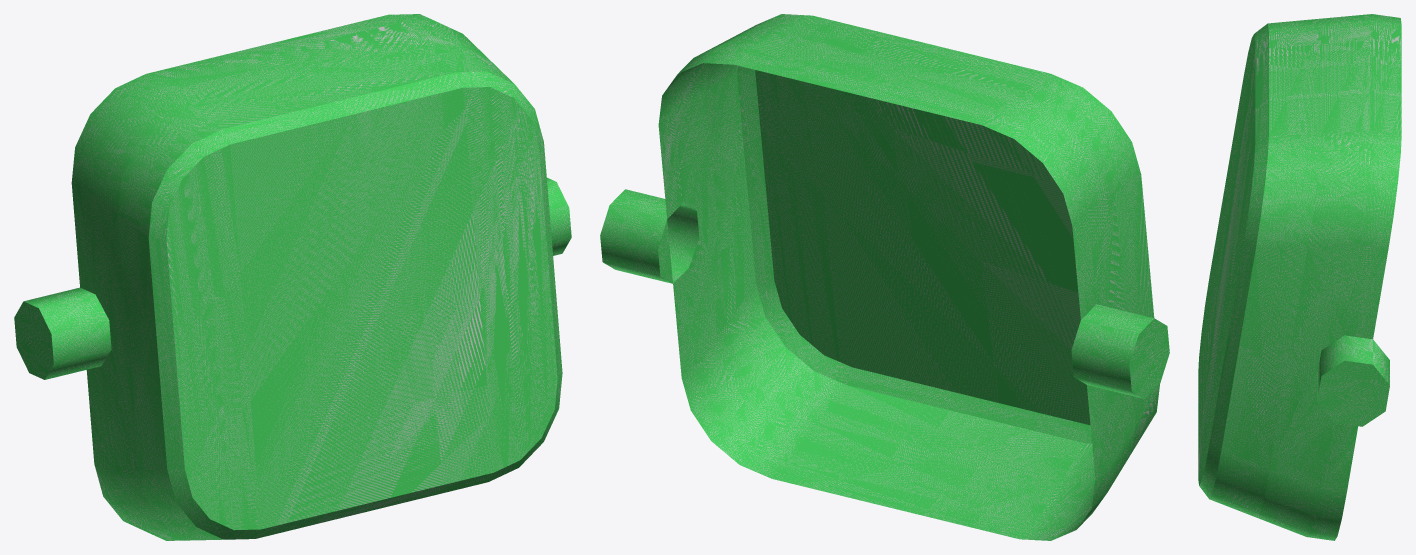
The model's file is original-15.obj.
3 views of the same model, side by side, from view 1: azimuth 30°, elevation 25°; view 2: azimuth 150°, elevation 25°; view 3: azimuth 270°, elevation 25° (orthographic). The views are drawn at different scales.
Visible parts, largest first — view 1: #ID5; view 2: #ID5; view 3: #ID5.
Boxes of the visible parts, x1,y1,x2,y2 form: #ID5: (14,14,571,540); #ID5: (600,14,1169,540); #ID5: (1198,14,1401,540).
Bounding box in the file's own units: 0.3084 × 0.2484 × 0.114.
